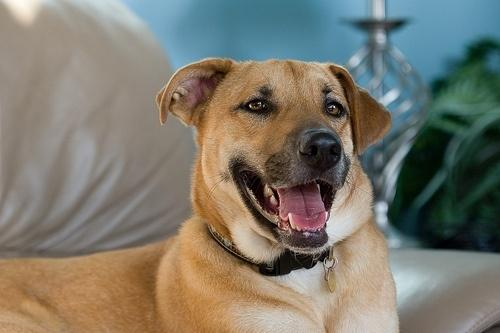dog: (0, 59, 398, 332)
